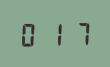one: (43, 20, 66, 46)
seven: (67, 19, 90, 46)
zero: (18, 20, 41, 47)
